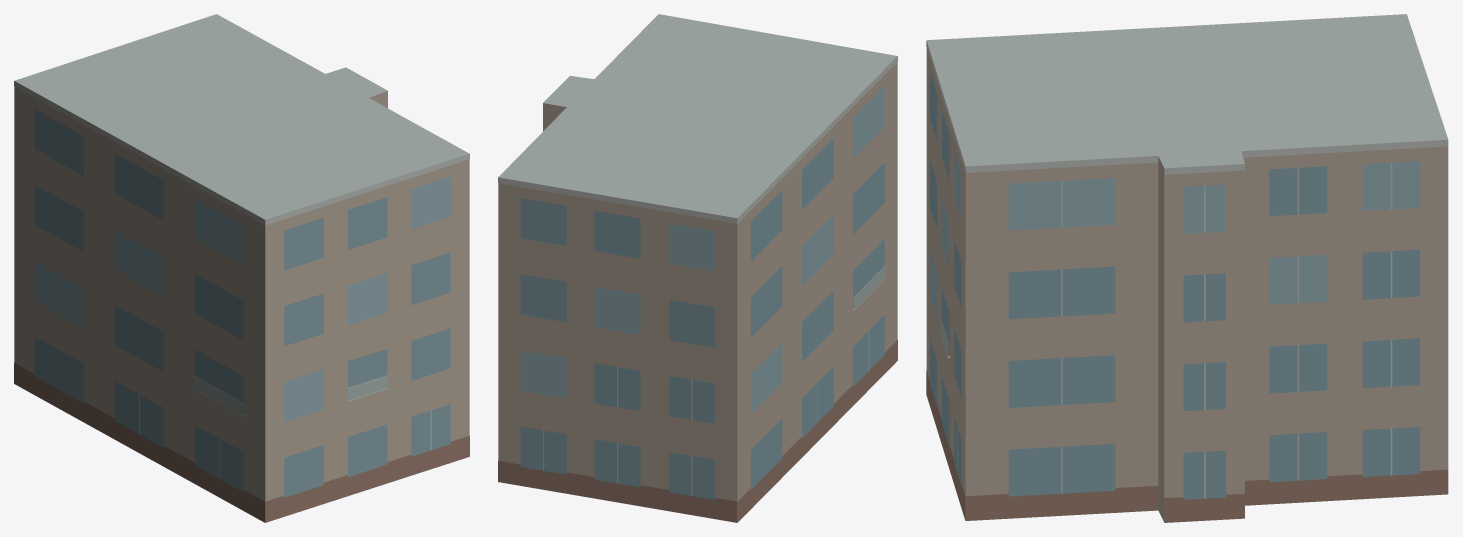
Rendered from survey-upis-32927546.glb.
The picture shows the model from 3 angles, left to right: view 1: azimuth 30°, elevation 25°; view 2: azimuth 150°, elevation 25°; view 3: azimuth 270°, elevation 25°; orthographic projection. The views are drawn at different scales.
Visible parts, largest first — view 1: survey-upis-32927546.tmp; view 2: survey-upis-32927546.tmp; view 3: survey-upis-32927546.tmp.
Boxes of the visible parts, x1,y1,x2,y2 form: survey-upis-32927546.tmp: [14, 14, 469, 522]; survey-upis-32927546.tmp: [498, 14, 897, 522]; survey-upis-32927546.tmp: [926, 14, 1448, 522].
Size of the model in its own units: 12.28 by 13.15 by 17.55.
